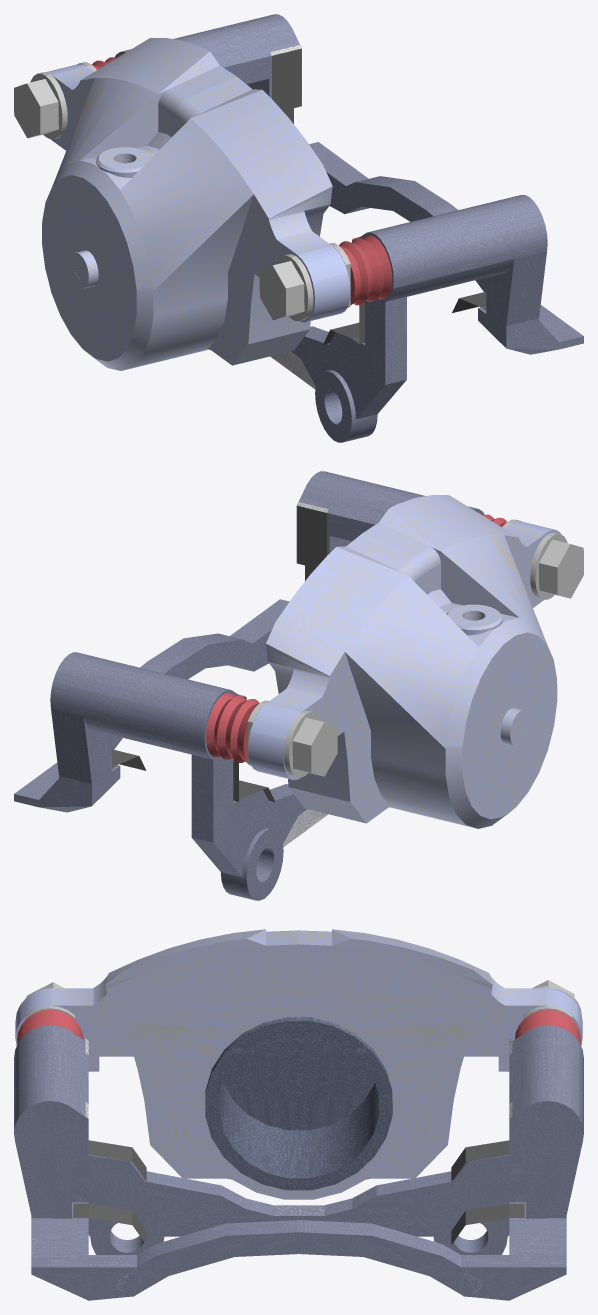
The model's file is caliper_outer.dae.
3 renders of one model, top to bottom at view 1: azimuth 30°, elevation 25°; view 2: azimuth 150°, elevation 25°; view 3: azimuth 270°, elevation 25°, orthographic.
Parts seen in each view (by area): view 1: Group_12 (×3), Group_8 (×4), group_10 (×2), group_8, Group_17 (×2), group_11 (×2); view 2: Group_12 (×3), Group_8 (×4), group_10 (×2), group_5, Group_17 (×2), group_11 (×2); view 3: Group_8 (×2), Group_12 (×4), group_3, group_4, Group_17 (×4), group_5, group_8.
Part boxes in pixels (box(x1,y1,x2,y2)): Group_12 (×3): box(42, 38, 350, 370); Group_8 (×4): box(121, 14, 583, 442); group_10 (×2): box(14, 79, 304, 320); group_8: box(339, 235, 392, 305); Group_17 (×2): box(272, 48, 364, 344); group_11 (×2): box(30, 72, 313, 321); Group_12 (×3): box(248, 495, 557, 828); Group_8 (×4): box(14, 471, 477, 900); group_10 (×2): box(292, 539, 583, 776); group_5: box(206, 693, 259, 762); Group_17 (×2): box(233, 506, 326, 802); group_11 (×2): box(283, 532, 567, 777); Group_8 (×2): box(14, 1025, 583, 1300); Group_12 (×4): box(15, 929, 582, 1199); group_3: box(205, 1017, 298, 1190); group_4: box(299, 1017, 392, 1190); Group_17 (×4): box(73, 1140, 524, 1244); group_5: box(515, 1009, 580, 1044); group_8: box(17, 1009, 83, 1044).
Size of the model in its own units: 5.54 by 7.3 by 4.42.
